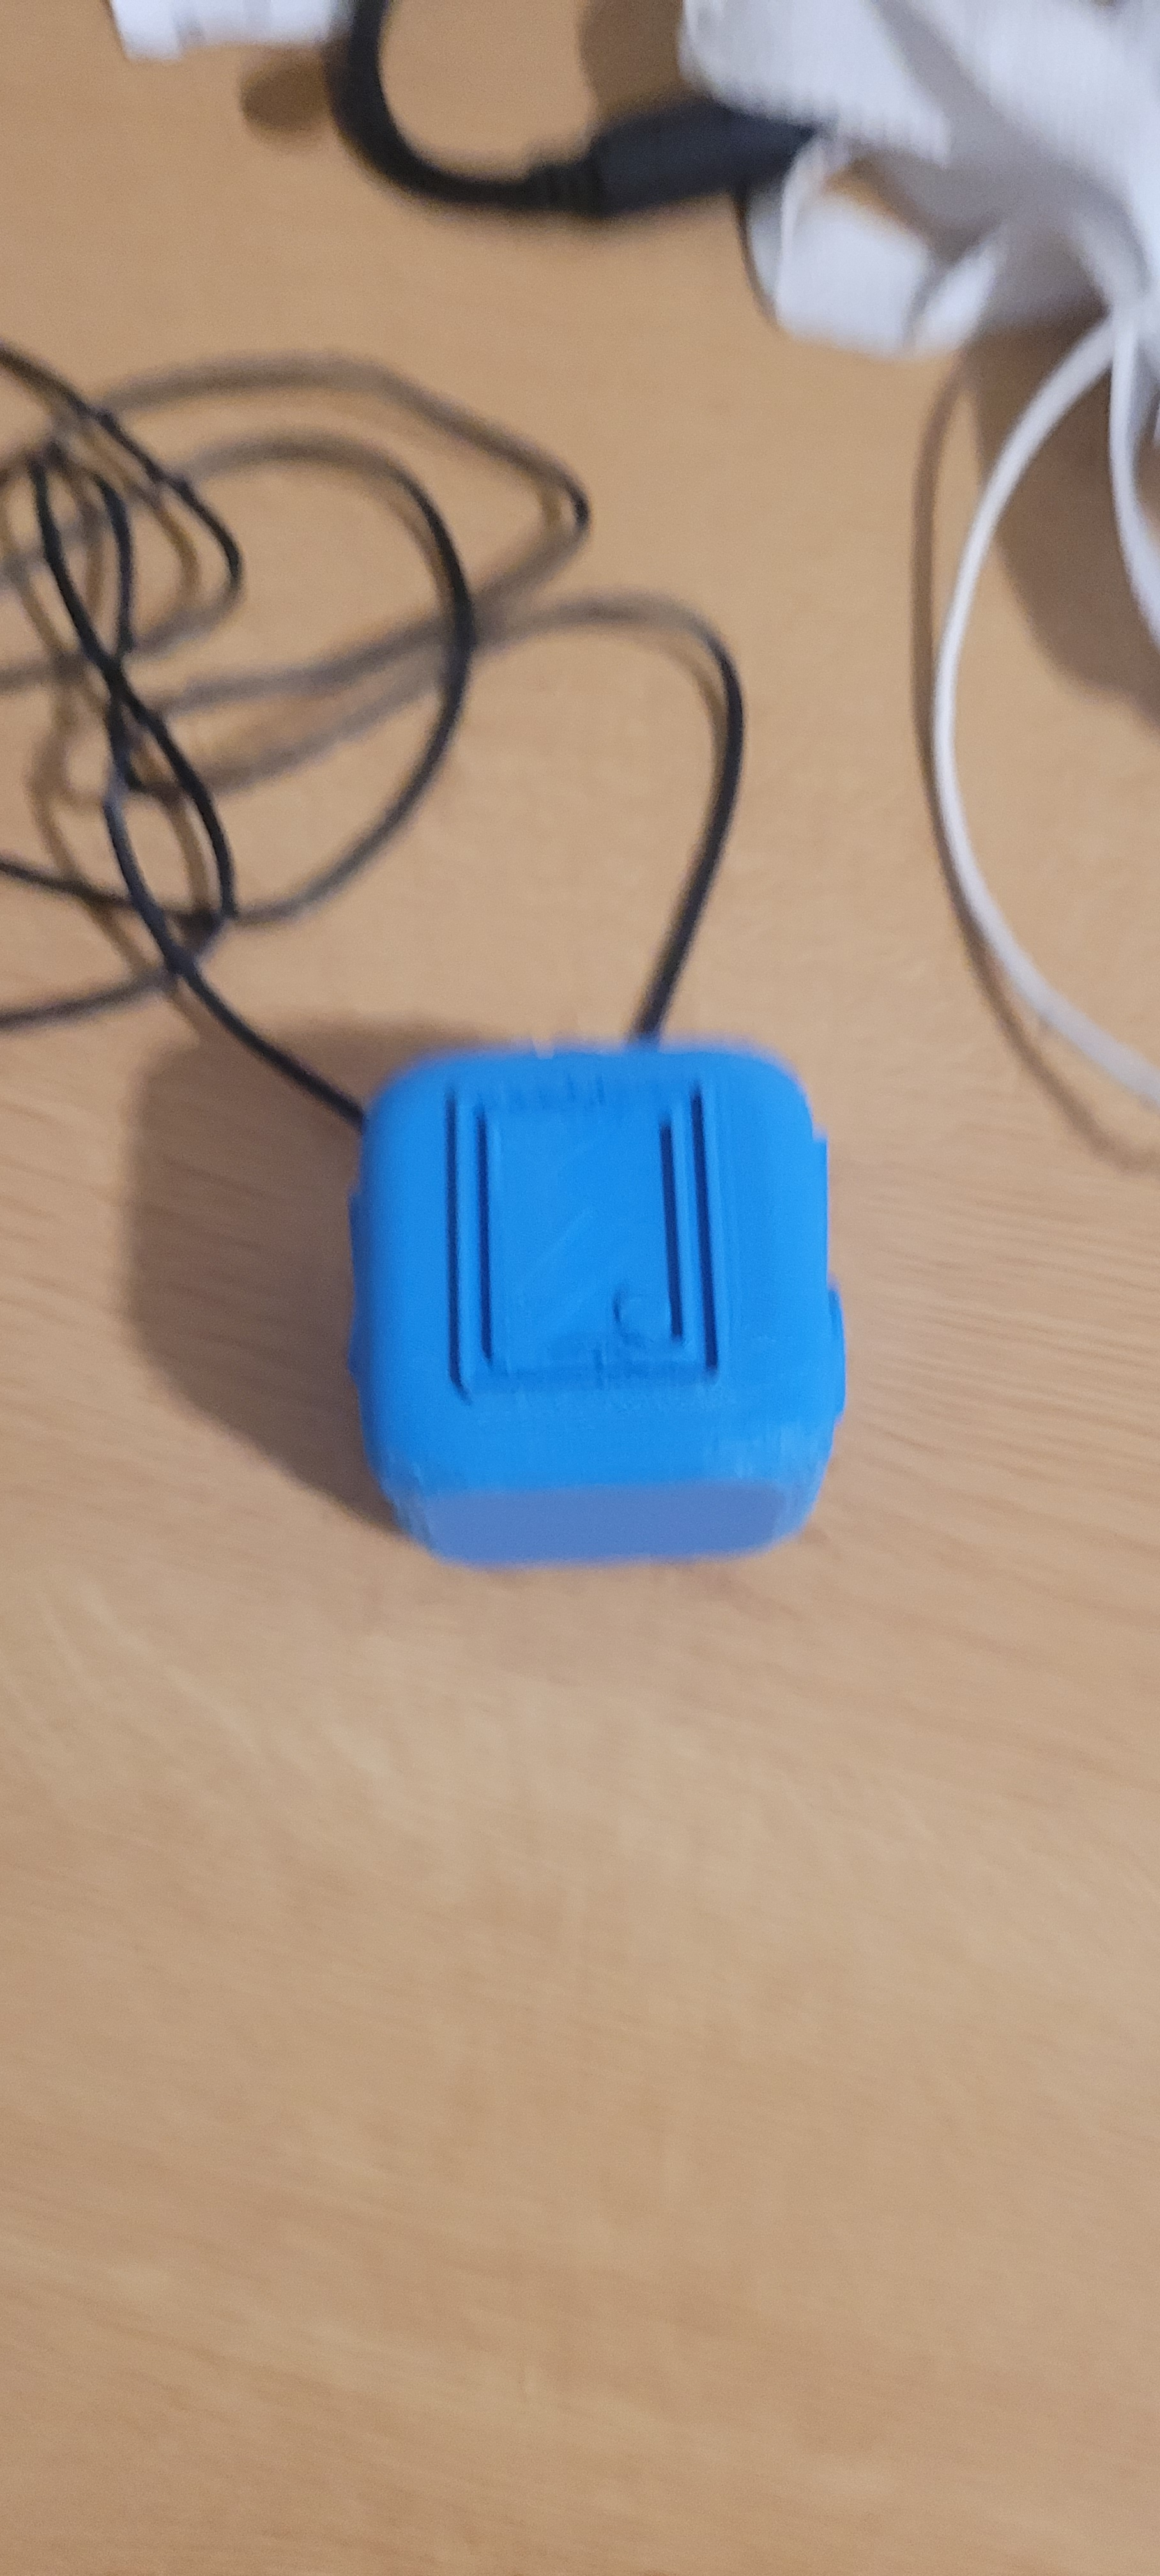Story: (422, 1046, 751, 1418)
